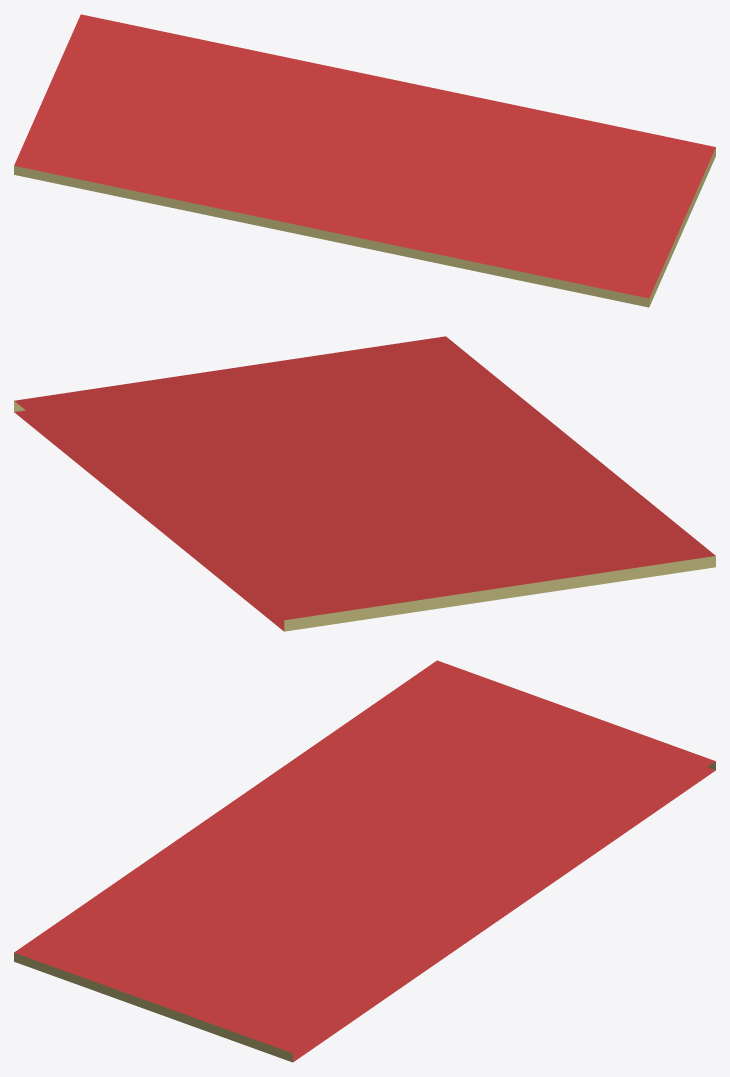
3 renders of one model, top to bottom at view 1: azimuth 30°, elevation 25°; view 2: azimuth 150°, elevation 25°; view 3: azimuth 270°, elevation 25°, orthographic. The views are drawn at different scales.
Size of the model in its own units: 7.27 by 6.96 by 1.01.
